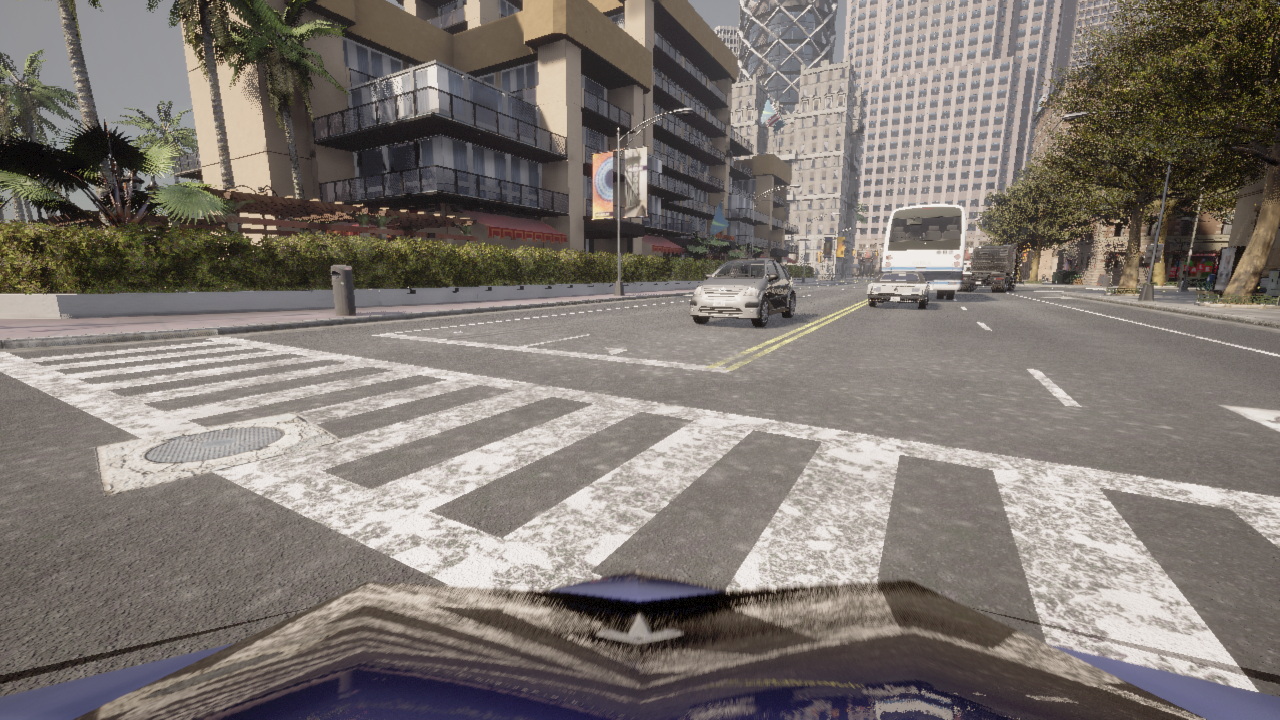cyclist: (0, 569, 1279, 719), (881, 204, 965, 299), (689, 258, 795, 326), (957, 243, 1023, 292), (867, 272, 929, 308), (963, 261, 970, 272)
